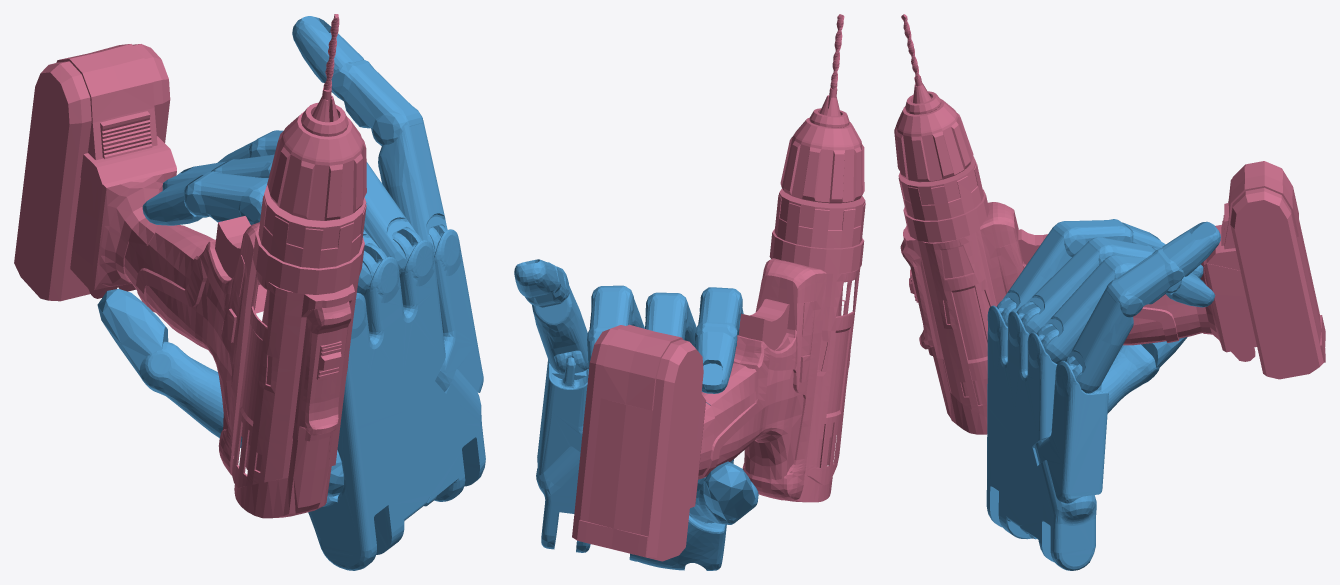
The picture shows the model from 3 angles, left to right: view 1: azimuth 30°, elevation 25°; view 2: azimuth 150°, elevation 25°; view 3: azimuth 270°, elevation 25°; orthographic projection. The views are drawn at different scales.
Visible parts, largest first — view 1: 11; view 2: 11; view 3: 11.
Boxes of the visible parts, <box> form: 11: <box>14,14,485,570</box>; 11: <box>514,14,865,570</box>; 11: <box>894,14,1325,570</box>.
Size of the model in its own units: 0.1319 by 0.2517 by 0.2047.
